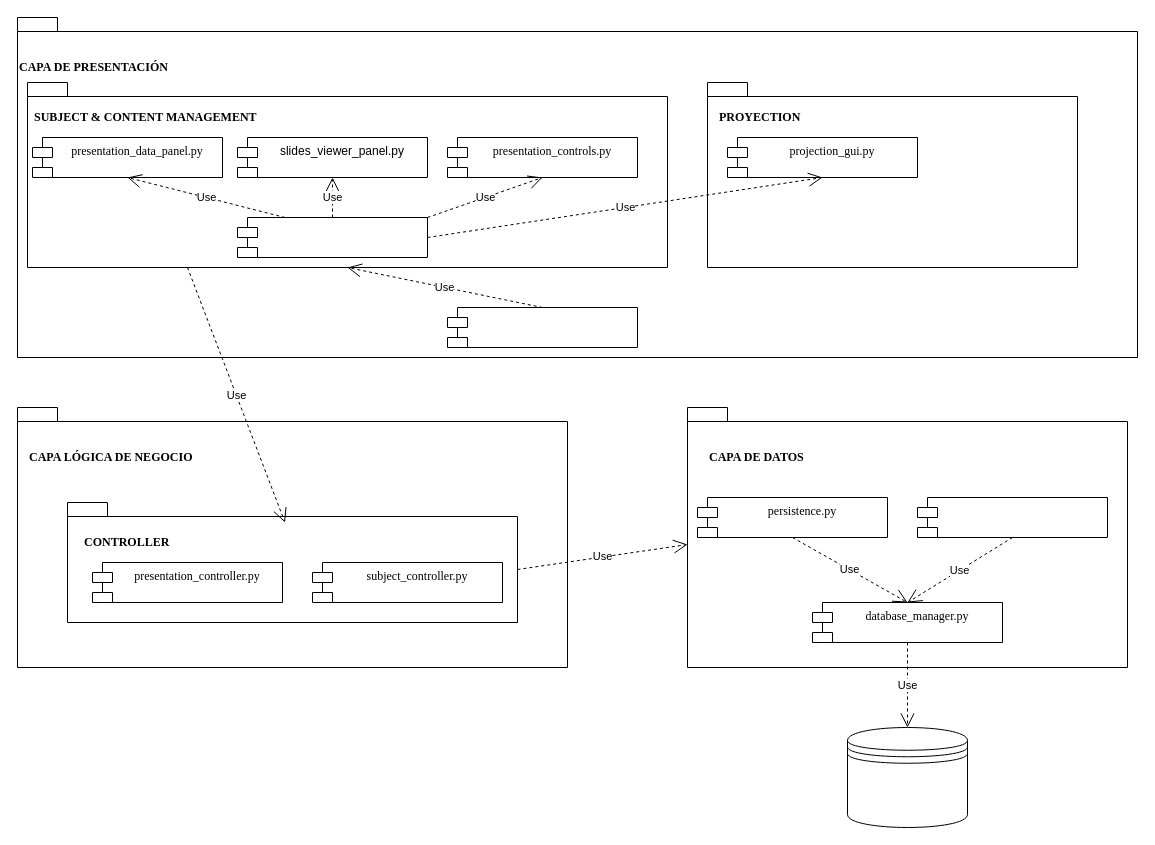
Image size: 1155x845. Some labels were removed from this diagram. The centre of each missing label's shape, as x and y in pixels:
"ai_analyzer.db" belongs at pixel 907 777.
"navigator.py" belongs at pixel 542 327.
"presentation_gui.py" belongs at pixel 332 237.
"queries.py" belongs at pixel 1012 517.
